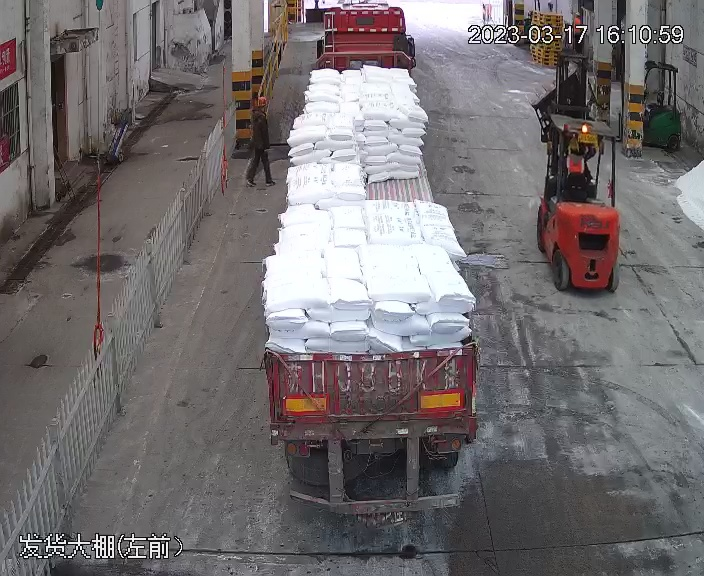head: (249, 96, 270, 128)
helmet: (257, 96, 269, 107)
people: (242, 96, 279, 189)
truck: (255, 7, 492, 493)
